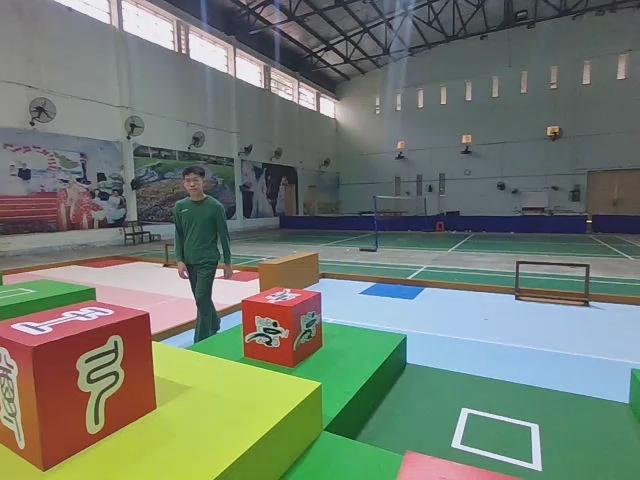R1: (240, 289, 322, 369)
R2 Fake: (0, 301, 161, 473)
